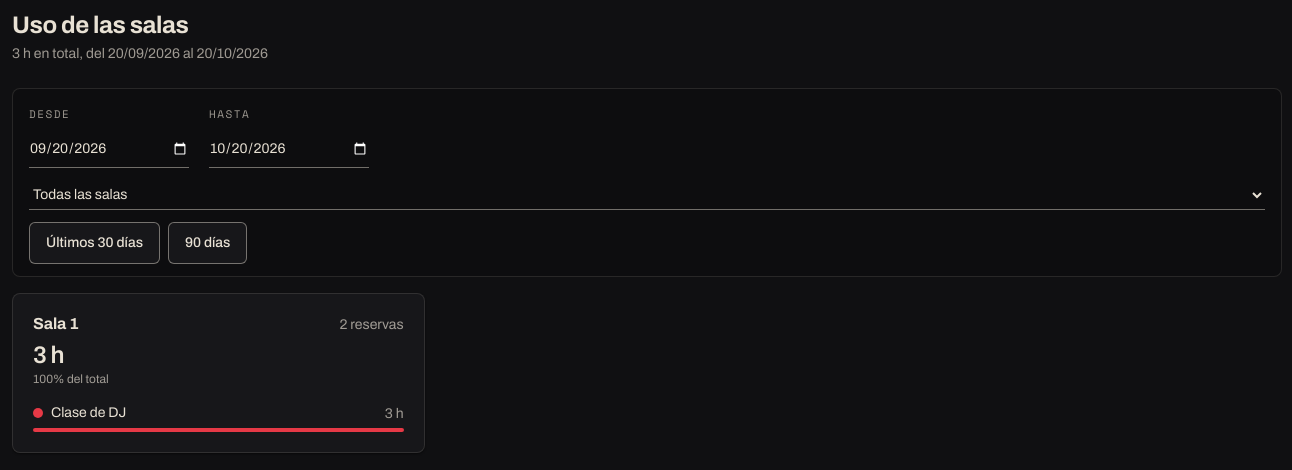
Test case: errores › un informe que falla no deja los números del período anterior
expect the heading "Sala 1" is shown: met, box [33,314,79,334]
Click the button "90 días".
click(208, 243)  # box [168,222,247,264]
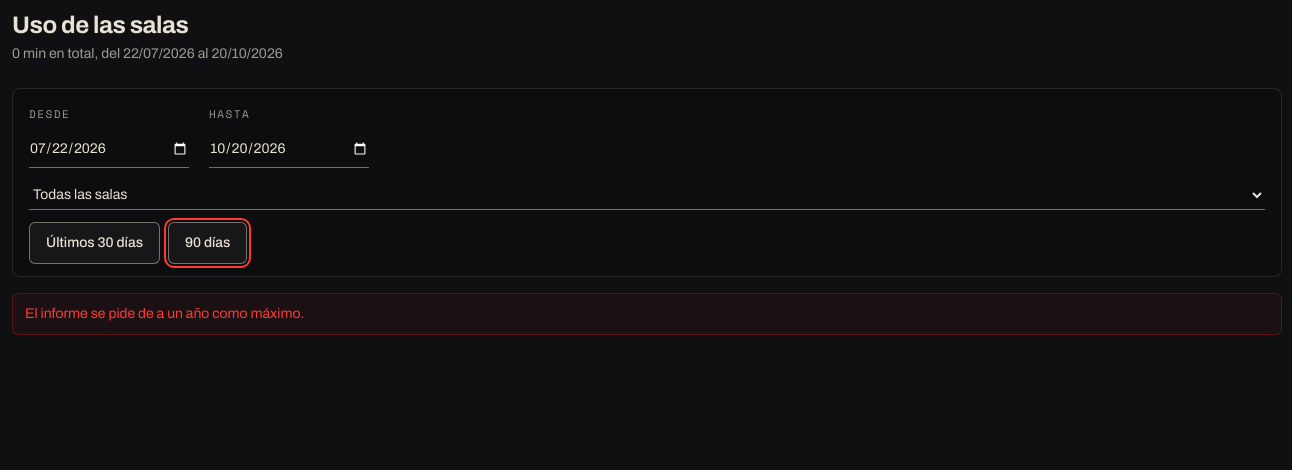
expect the text "El informe se pide de a un año como máximo." is shown: met, box [12,293,1282,335]
expect the heading "Sala 1" is gone: met
